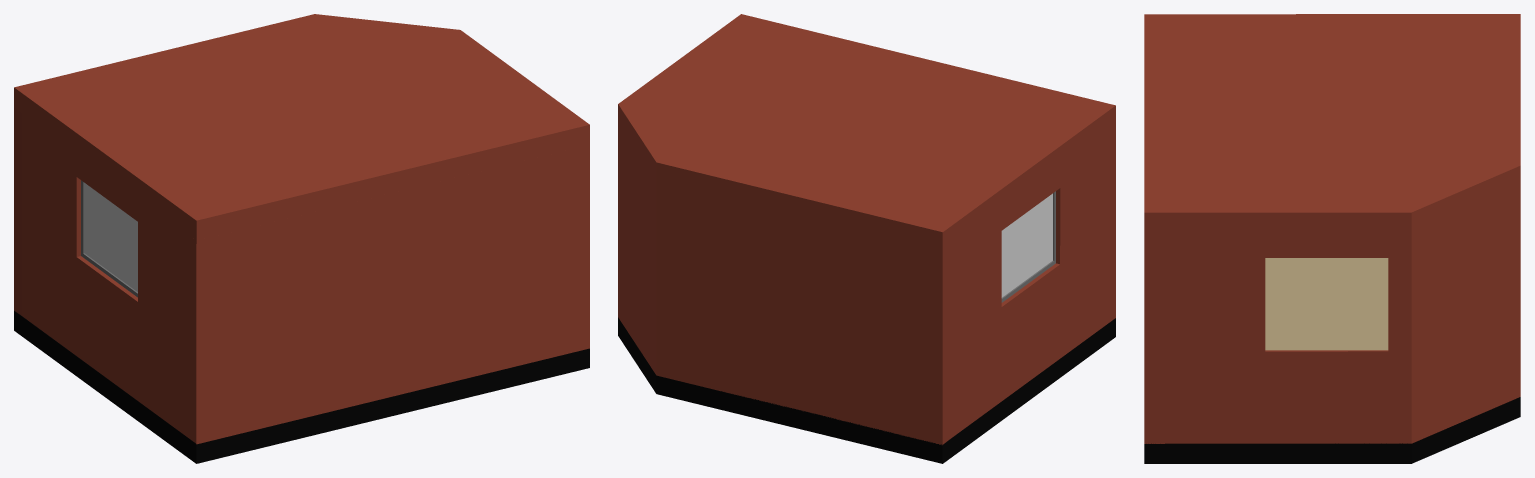
Rendered from FloorPlan30_physics.fbx.
3 renders of one model, left to right at view 1: azimuth 30°, elevation 25°; view 2: azimuth 150°, elevation 25°; view 3: azimuth 270°, elevation 25°, orthographic. The views are drawn at different scales.
Parts seen in each view (by area): view 1: Cube.015, Cube.075, Cube.048, Cube.067, Room.067; view 2: Cube.015, Cube.075, Cube.048, Cube.067, Room.067; view 3: Cube.075, Cube.015, Cube.074, Cube.048.
Part boxes in pixels (x1,y1,x2,y2): Cube.015: (14,107,589,444); Cube.075: (14,14,589,240); Cube.048: (14,311,589,463); Cube.067: (84,183,137,291); Room.067: (81,180,137,297); Cube.015: (618,123,1115,445); Cube.075: (618,14,1115,251); Cube.048: (618,317,1115,463); Cube.067: (1001,193,1052,297); Room.067: (1001,191,1055,302); Cube.075: (1144,14,1520,233); Cube.015: (1144,186,1520,443); Cube.074: (1265,258,1388,350); Cube.048: (1144,397,1520,463).
Size of the model in its own units: 444 by 262 by 356.
